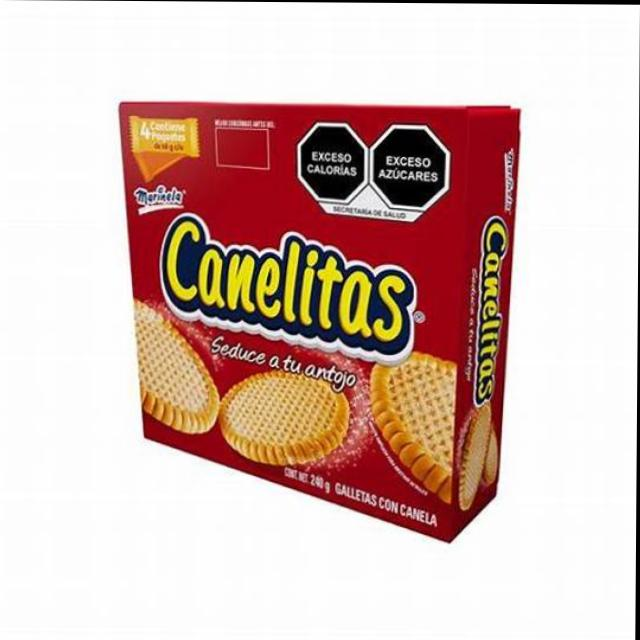Caja: (114, 90, 530, 551)
